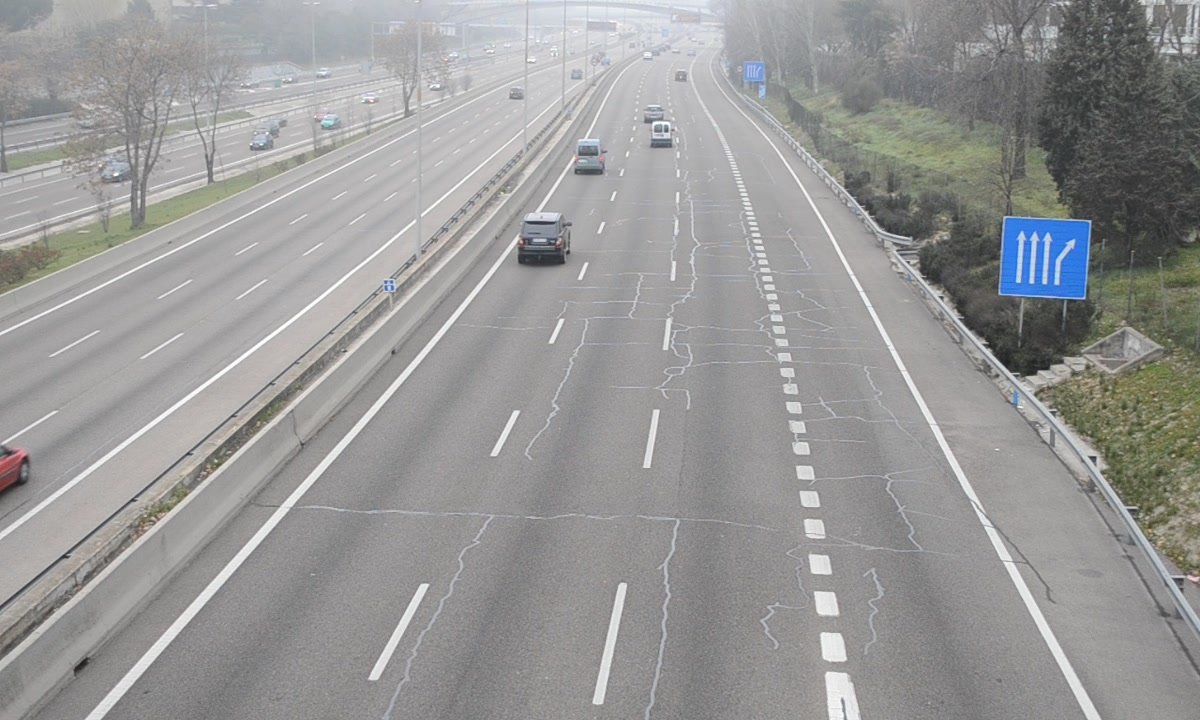car: (517, 214, 568, 263)
van: (574, 138, 604, 177)
